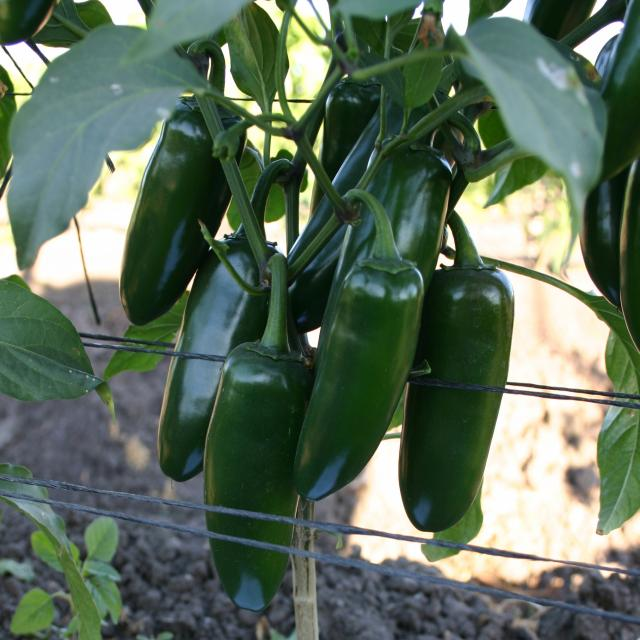aji: (164, 235, 268, 480), (128, 102, 232, 314), (326, 256, 405, 508), (430, 284, 506, 535)
